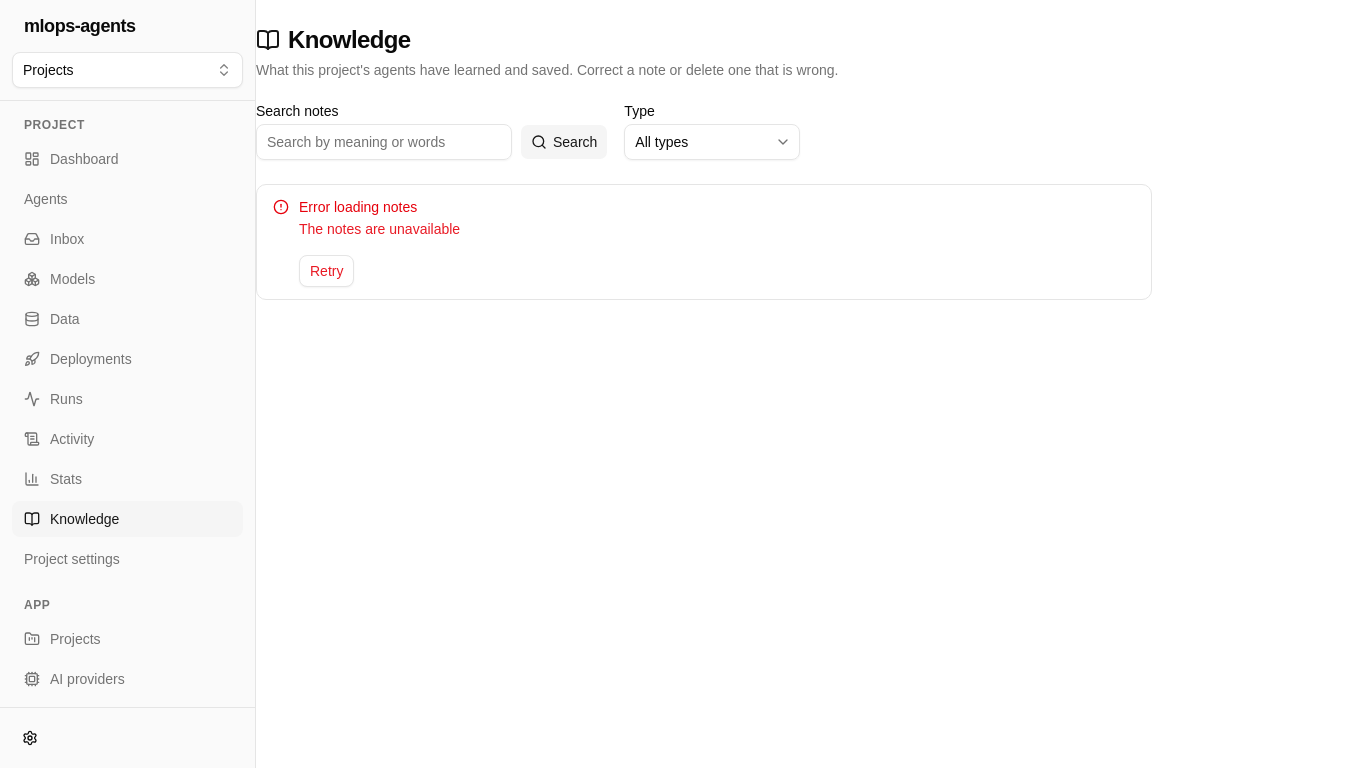
Scenario: KnowledgePage › shows the server's error with a retry that reloads
The width and height of the screenshot is (1366, 768).
Expected: the text "The notes are unavailable" is shown, x1=299 y1=221 x2=460 y2=237
Click the button "Retry" at (327, 271), box x1=299 y1=255 x2=354 y2=287
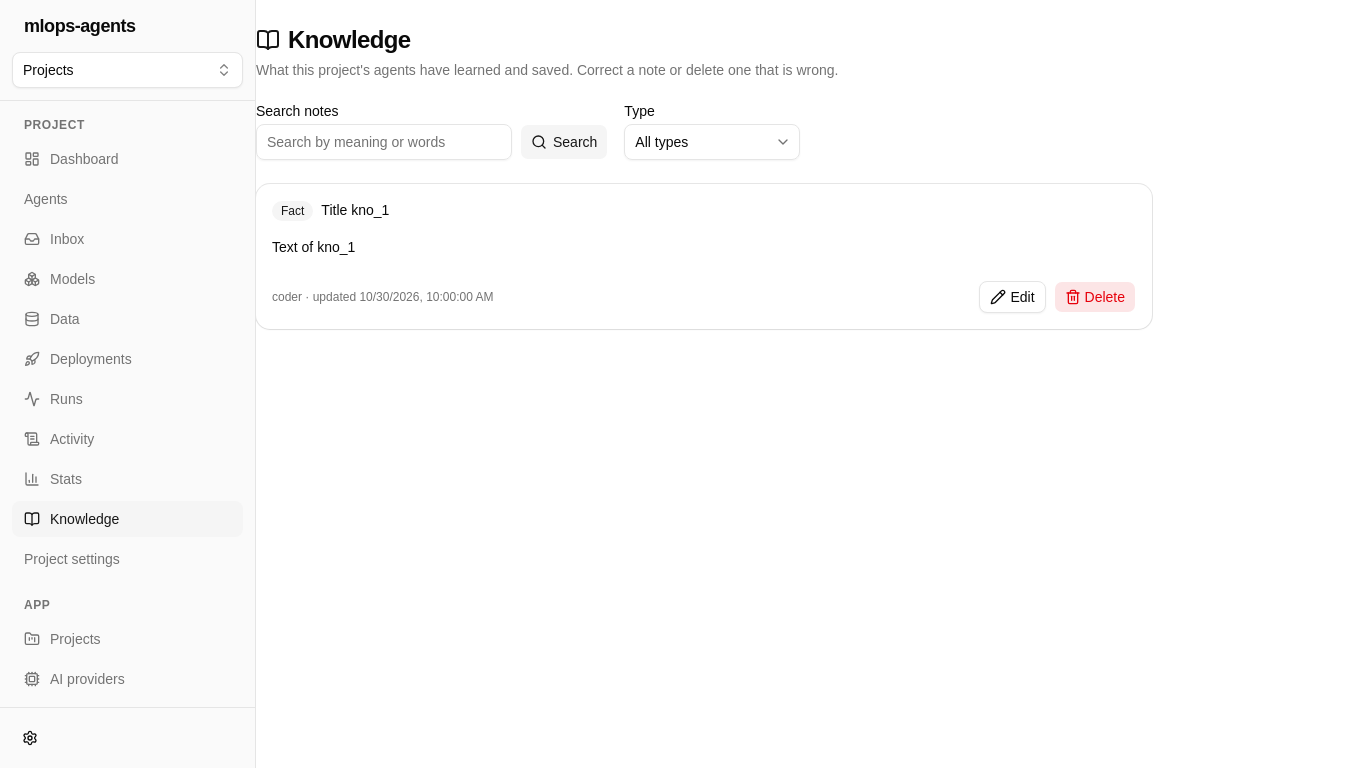
Expected: the list item with test id "note-kno_1" is shown, x1=256 y1=184 x2=1152 y2=329
